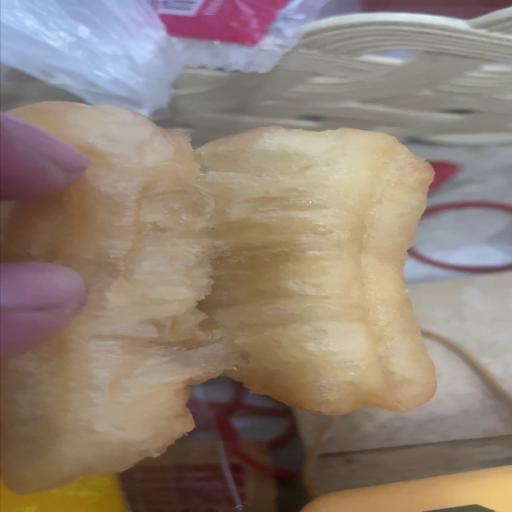street_golden_defect: (0, 121, 438, 504)
